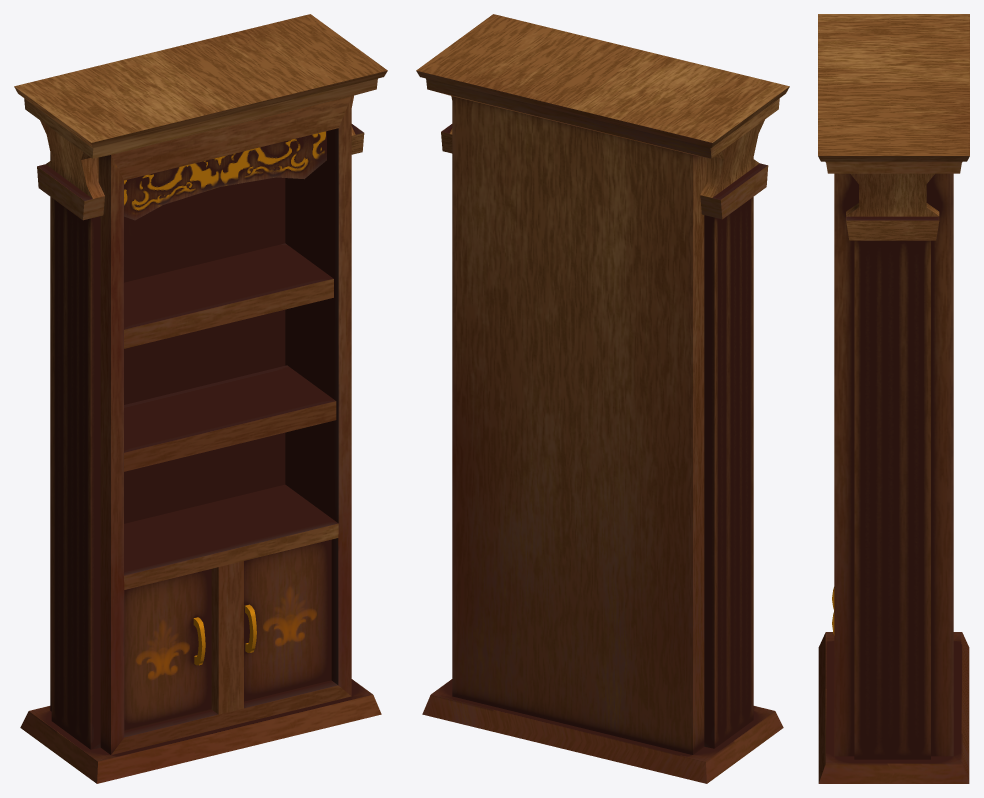
File: PR_Bookshelf1.fbx
The picture shows the model from 3 angles, left to right: view 1: azimuth 30°, elevation 25°; view 2: azimuth 150°, elevation 25°; view 3: azimuth 270°, elevation 25°; orthographic projection.
Parts seen in each view (by area): view 1: Shelve01; view 2: Shelve01; view 3: Shelve01.
Boxes of the visible parts, x1,y1,x2,y2 form: Shelve01: (14,14,387,783); Shelve01: (416,14,789,783); Shelve01: (818,14,969,783).
Bounding box in the file's own units: 131 × 271 × 59.2.
